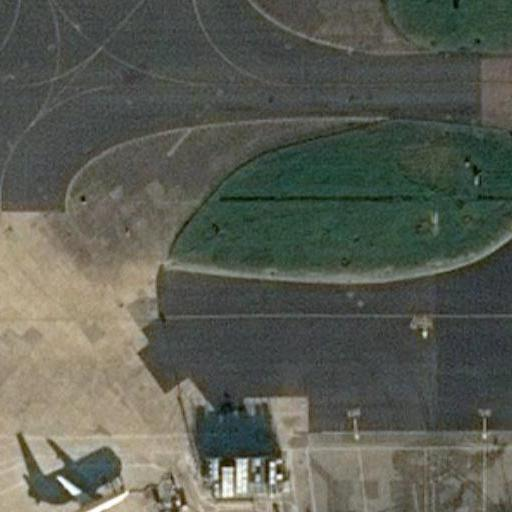Aircraft: (29, 469, 132, 512)
